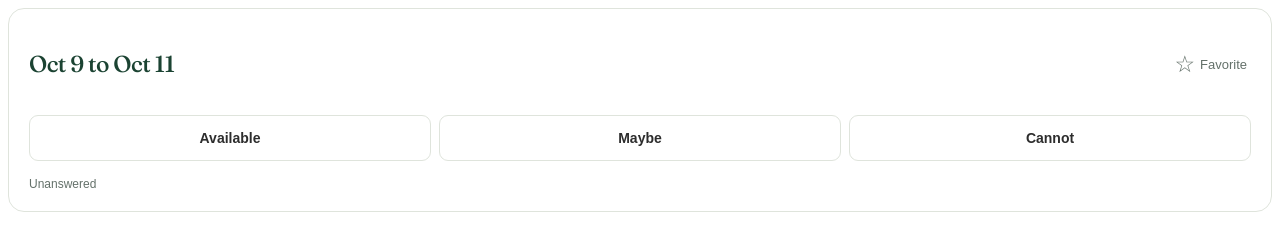
Test: offers direct answers, an independent favorite, and an explicit clear action
Expected: the text "Unanswered" is shown, [29,176,96,190]
Click the button with aria-label "Maybe:" at (640, 138), box [439,115,841,161]
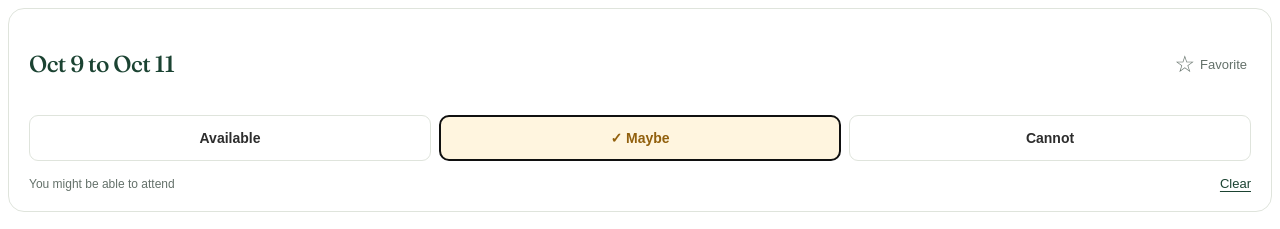
Expected: the button with aria-label "Favorite:" is disabled, [1170,44,1251,84]
Now the button with aria-label "Maybe:" is pressed, box [439,115,841,161]
Click the button with aria-label "Available:" at (230, 138), box [29,115,431,161]
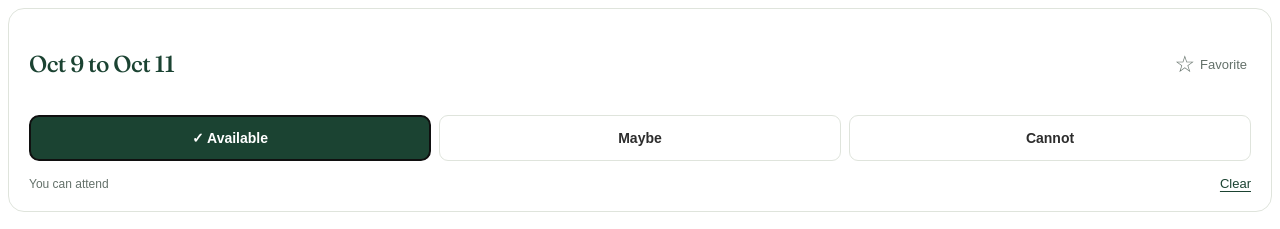
Click the button with aria-label "Favorite:" at (1211, 64), box [1170,44,1251,84]
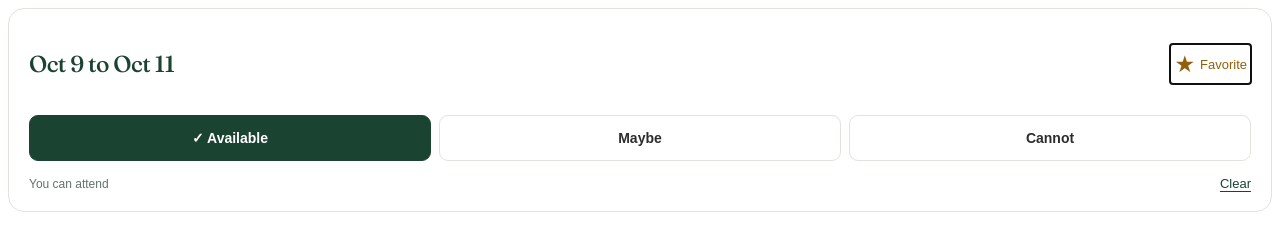
Now the button with aria-label "Favorite:" is pressed, box [1170,44,1251,84]
Click the button with aria-label "Cannot:" at (1050, 138), box [849,115,1251,161]
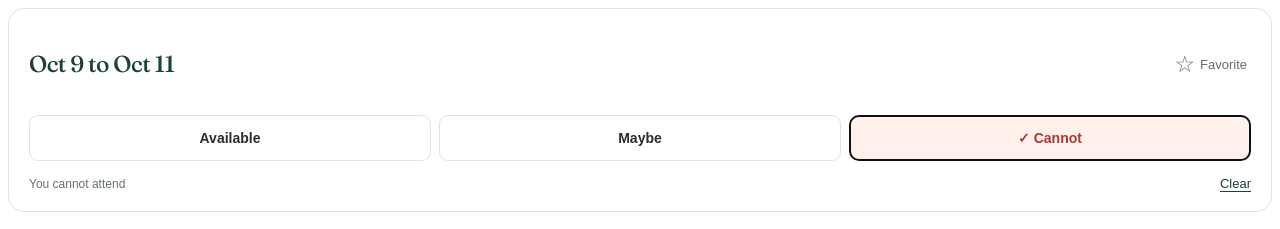
Now the button with aria-label "Favorite:" is not pressed, box [1170,44,1251,84]
Click the button with aria-label "Clear answer:" at (1235, 184), box [1220,168,1251,200]
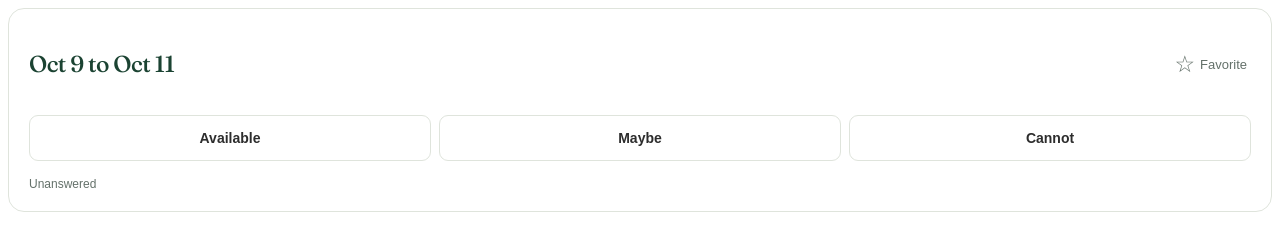
Now the text "Unanswered" is shown, box [29,176,96,190]
